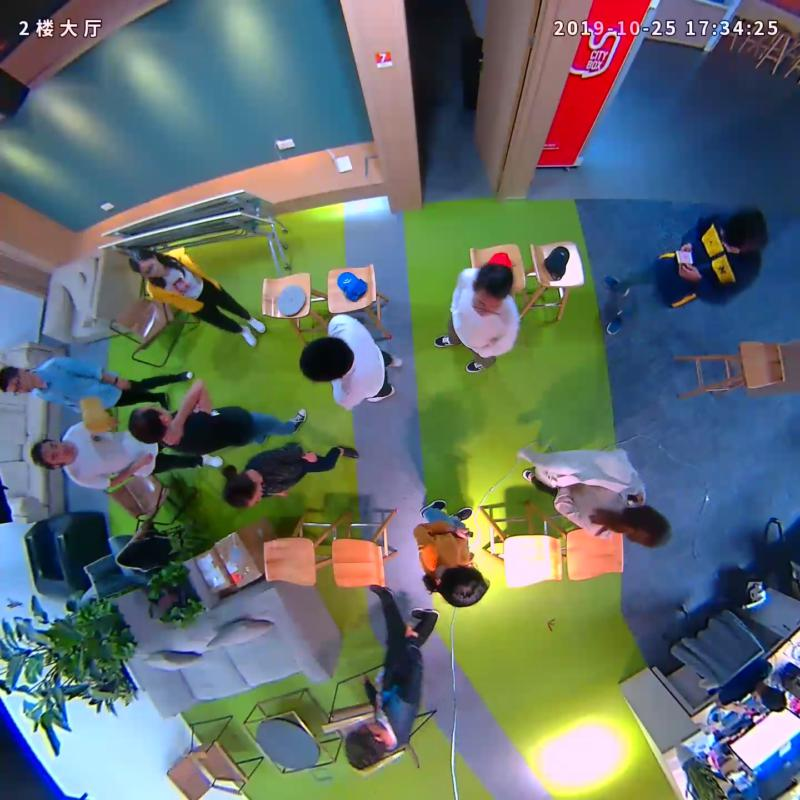head: (298, 335, 353, 382), (344, 719, 390, 770), (437, 562, 486, 609), (470, 264, 513, 317), (624, 503, 670, 548), (721, 211, 769, 254), (127, 405, 172, 445), (222, 471, 262, 509), (29, 438, 76, 466), (129, 247, 164, 279), (1, 365, 37, 394)
